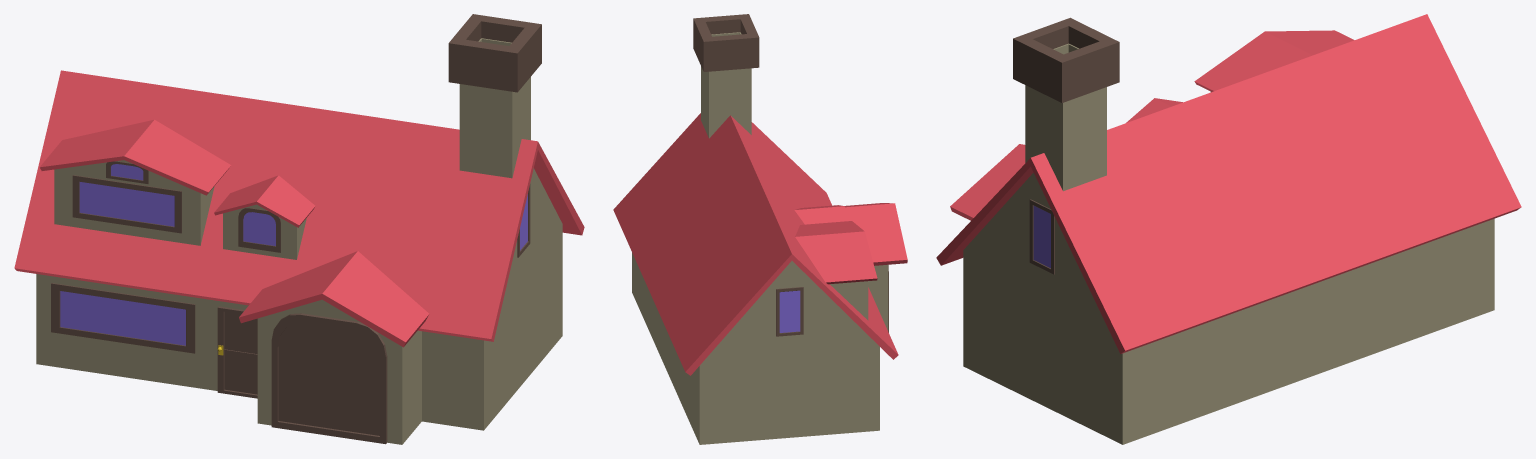
Rendered from CALLE1_CASA1_017.fbx.
3 renders of one model, left to right at view 1: azimuth 30°, elevation 25°; view 2: azimuth 150°, elevation 25°; view 3: azimuth 270°, elevation 25°, orthographic. The views are drawn at different scales.
Parts seen in each view (by area): view 1: CASA1.017; view 2: CASA1.017; view 3: CASA1.017.
Boxes of the visible parts, <box> form: CASA1.017: <box>14,14,584,444</box>; CASA1.017: <box>613,14,907,444</box>; CASA1.017: <box>936,14,1521,444</box>.
Size of the model in its own units: 1044 by 734 by 1091.
